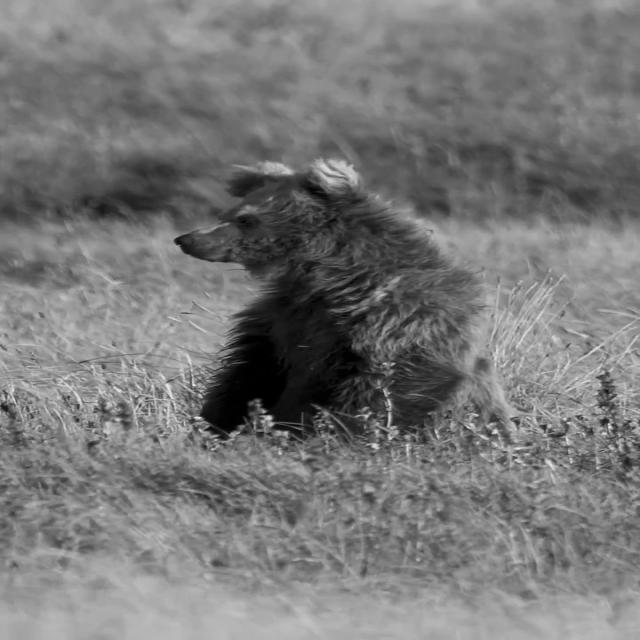Bear: (171, 157, 521, 453)
